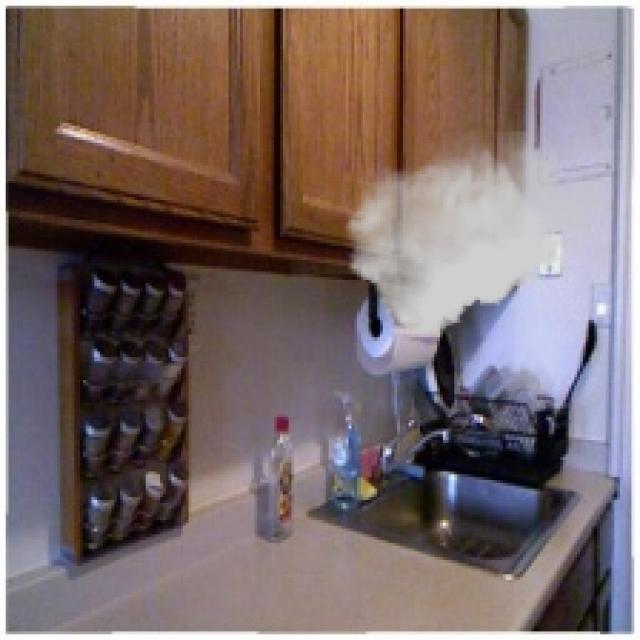Smoke: (346, 132, 598, 334)
